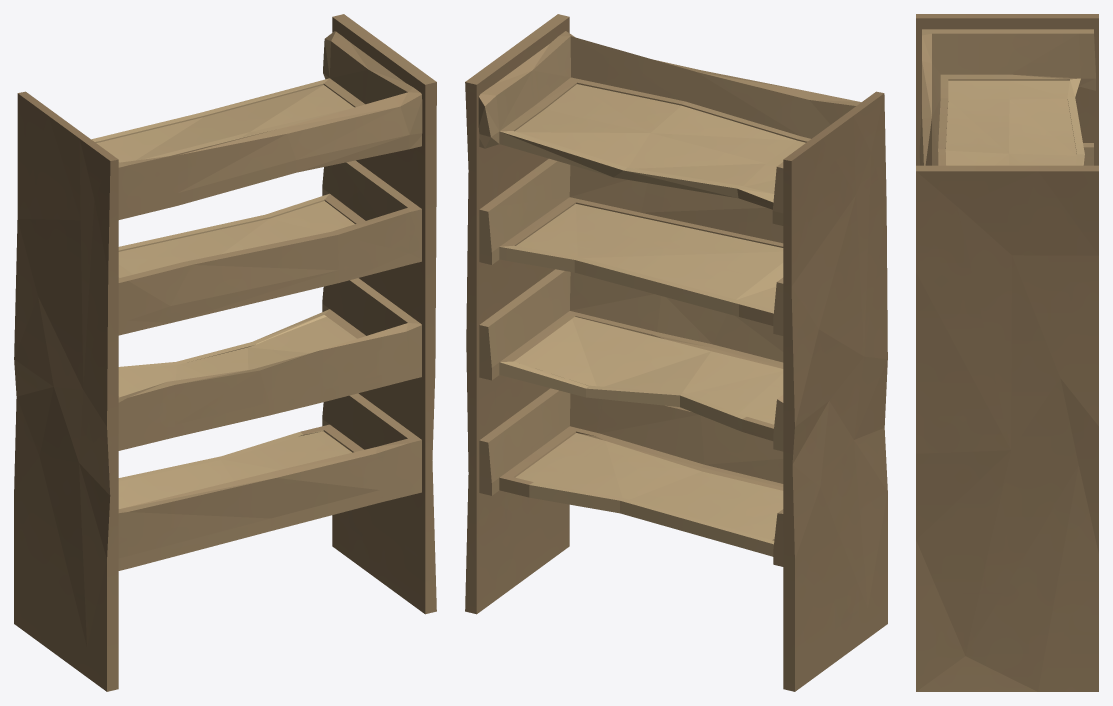
Rendered from shelf_2.obj.
3 views of the same model, side by side, from view 1: azimuth 30°, elevation 25°; view 2: azimuth 150°, elevation 25°; view 3: azimuth 270°, elevation 25° (orthographic).
Visible parts, largest first — view 1: shelf_2_Mesh; view 2: shelf_2_Mesh; view 3: shelf_2_Mesh.
Boxes of the visible parts, x1=… form: shelf_2_Mesh: x1=14, y1=14, x2=436, y2=691; shelf_2_Mesh: x1=465, y1=14, x2=887, y2=691; shelf_2_Mesh: x1=916, y1=14, x2=1098, y2=691.
Bounding box in the file's own units: 1.2 × 1.84 × 0.5848.
